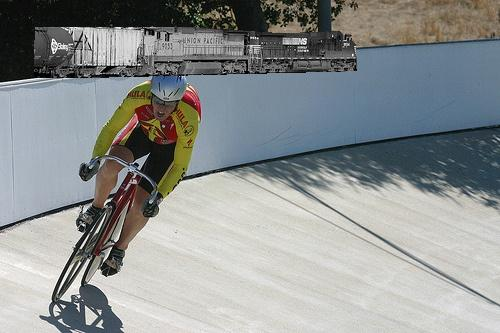tampered: (35, 28, 357, 78)
